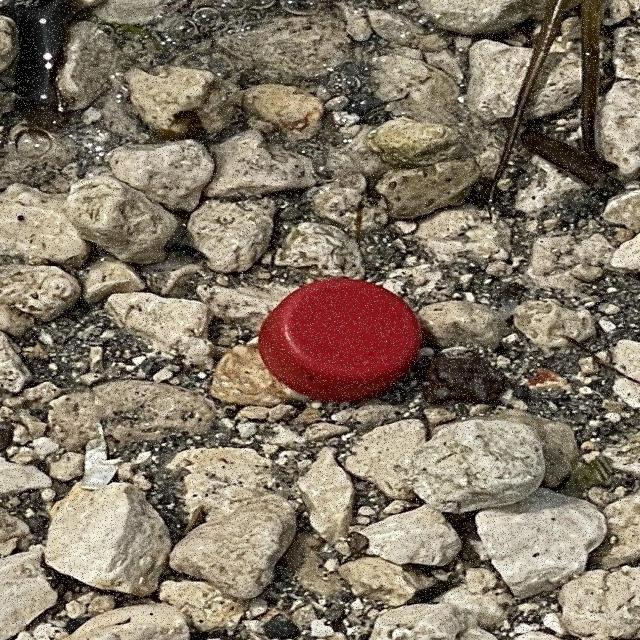plastic_waste: (257, 275, 427, 402)
